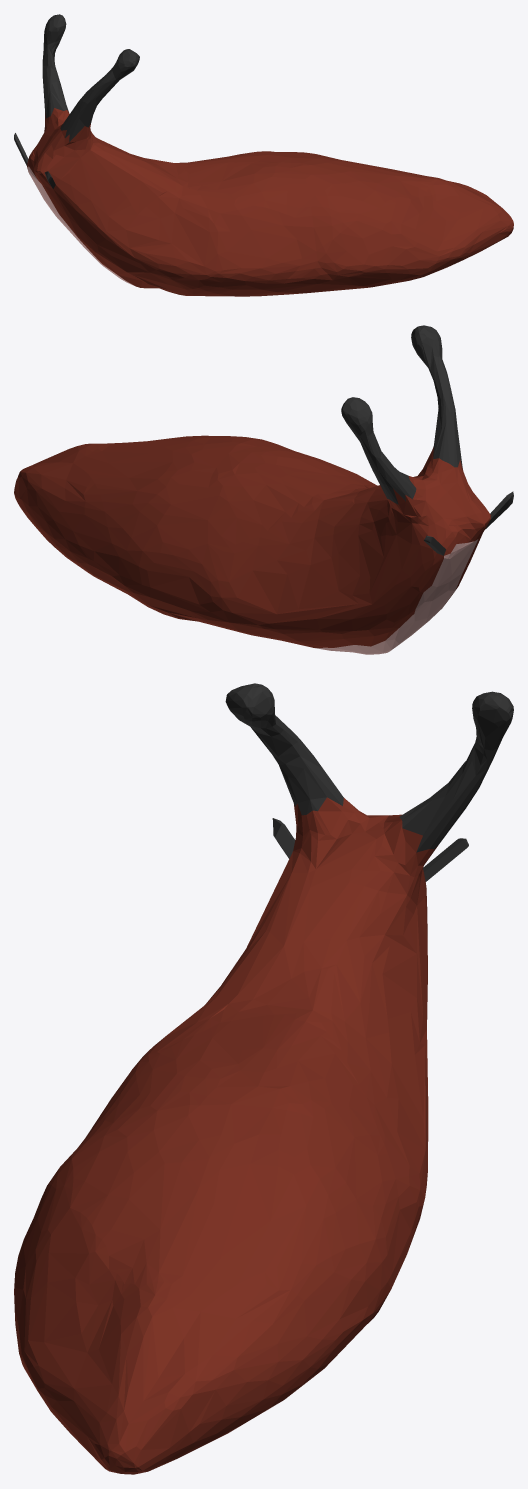
The model's file is dhVeQ7R5nCJ.glb.
3 renders of one model, top to bottom at view 1: azimuth 30°, elevation 25°; view 2: azimuth 150°, elevation 25°; view 3: azimuth 270°, elevation 25°, orthographic. The views are drawn at different scales.
Visible parts, largest first — view 1: Snail001; view 2: Snail001; view 3: Snail001.
Boxes of the visible parts, x1,y1,x2,y2 form: Snail001: (14,14,513,296); Snail001: (14,325,513,654); Snail001: (14,683,513,1474).
Bounding box in the file's own units: 1.82 × 0.9999 × 0.9617.
